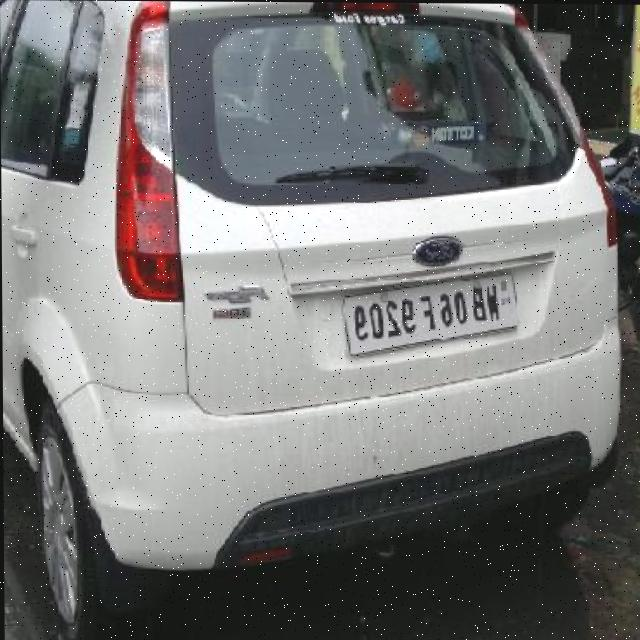plate: (342, 268, 520, 373)
